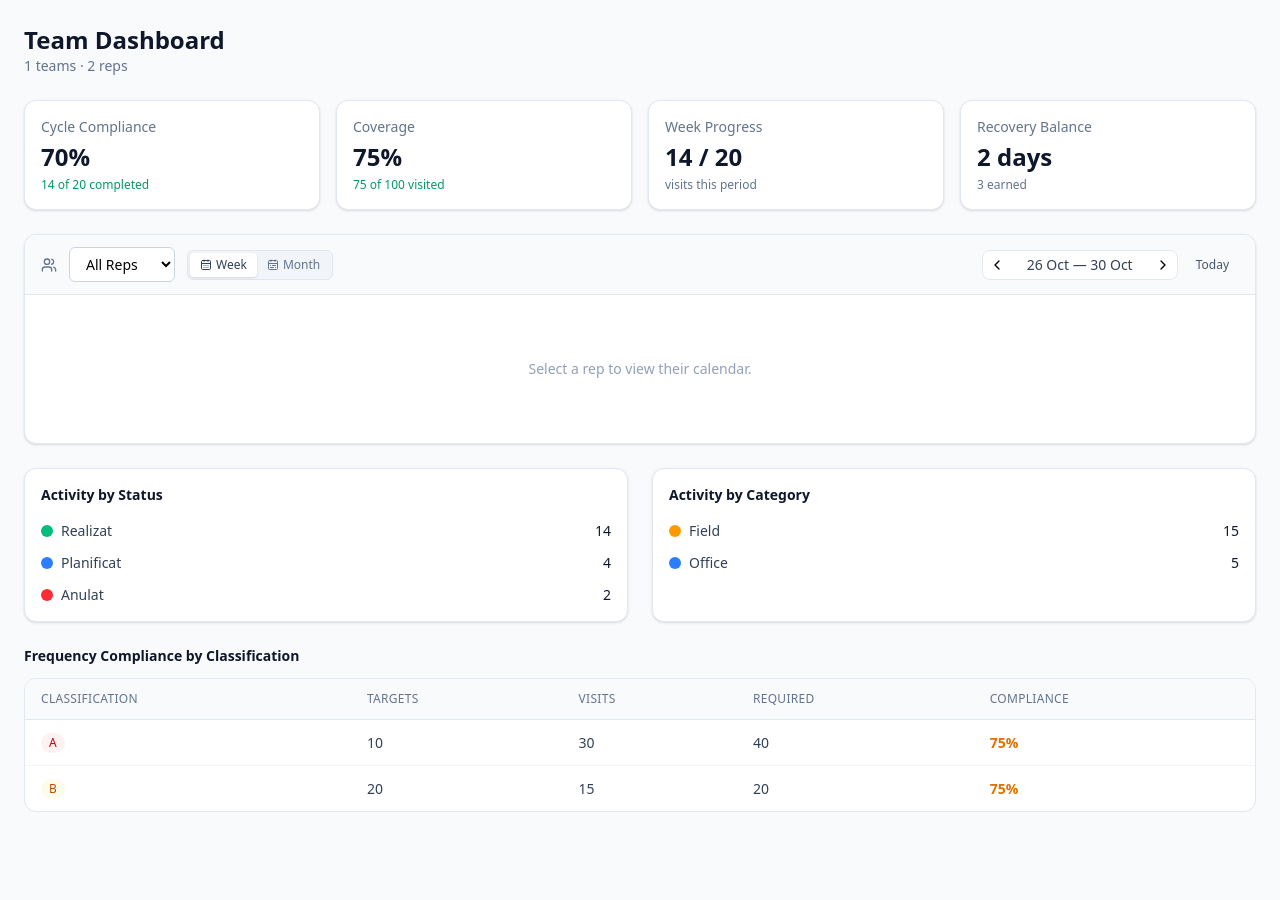
Test case: DashboardPage › switches between week and month view modes
The width and height of the screenshot is (1280, 900).
Click the button "Month" at (294, 264), box [257,252,330,276]
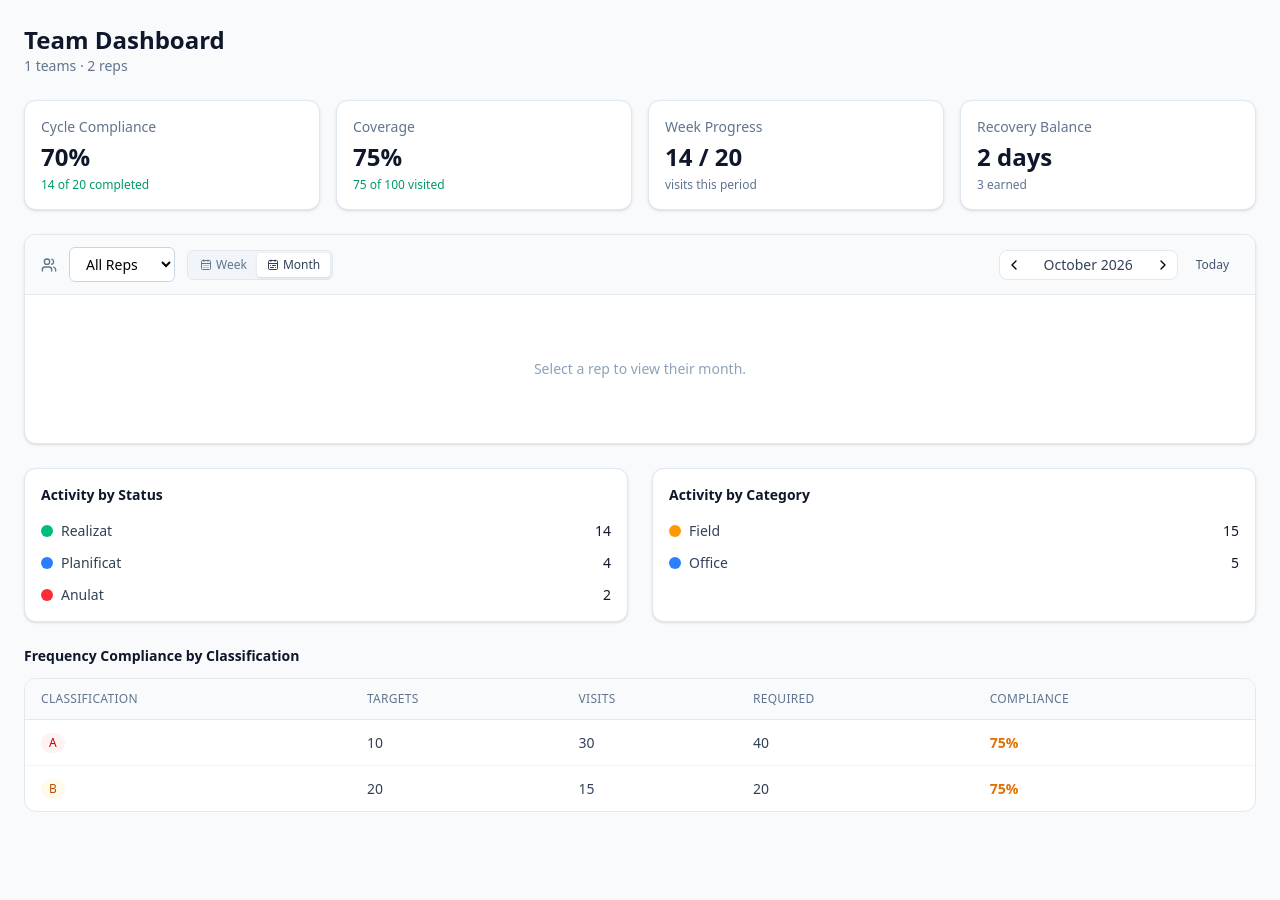
Expected: the text "Select a rep to view their month." is shown, [534,359,746,378]
